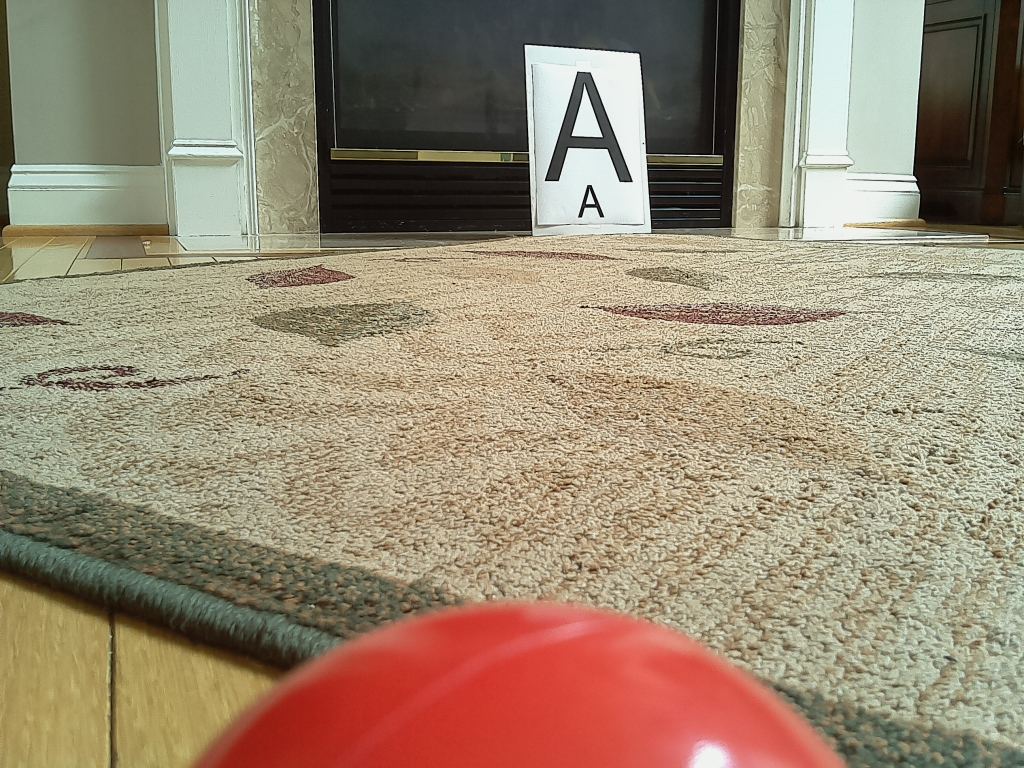letter: (545, 71, 636, 182)
